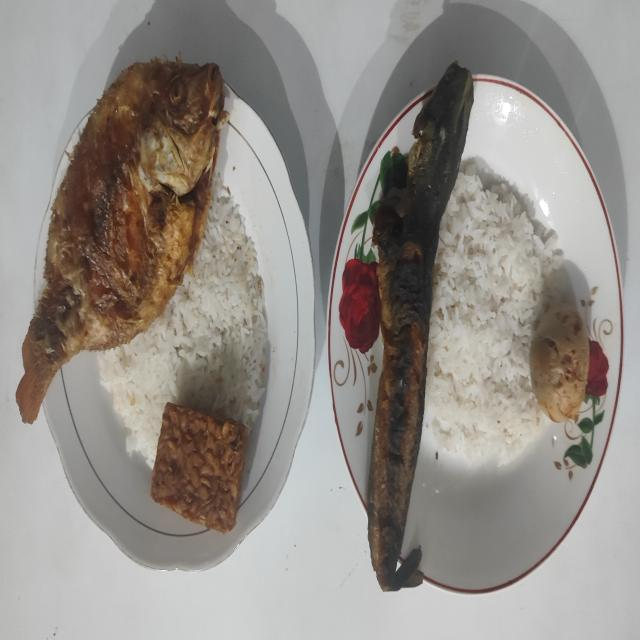ikan_mujair: (17, 58, 228, 422)
nasi_putih: (97, 174, 269, 463), (426, 160, 562, 466)
tempe_goreng: (151, 403, 248, 532)
